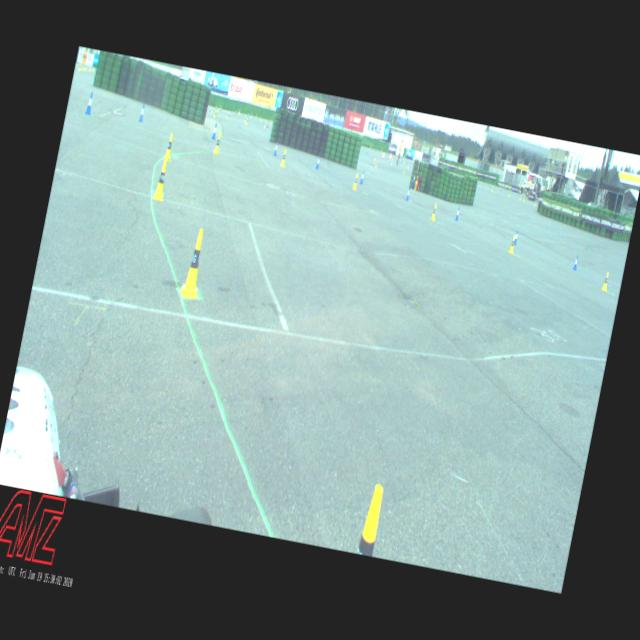blue_cone: (84, 92, 94, 115), (138, 104, 146, 123), (572, 255, 580, 271), (211, 122, 218, 140), (455, 206, 461, 222), (514, 230, 520, 246), (315, 155, 321, 170), (360, 170, 366, 185), (274, 142, 280, 156), (405, 187, 411, 201)
yellow_cone: (179, 227, 210, 298), (153, 158, 171, 202), (163, 132, 176, 162), (601, 272, 610, 292), (214, 133, 222, 155), (280, 148, 288, 168), (430, 204, 438, 222), (508, 236, 516, 254), (352, 172, 359, 190)
